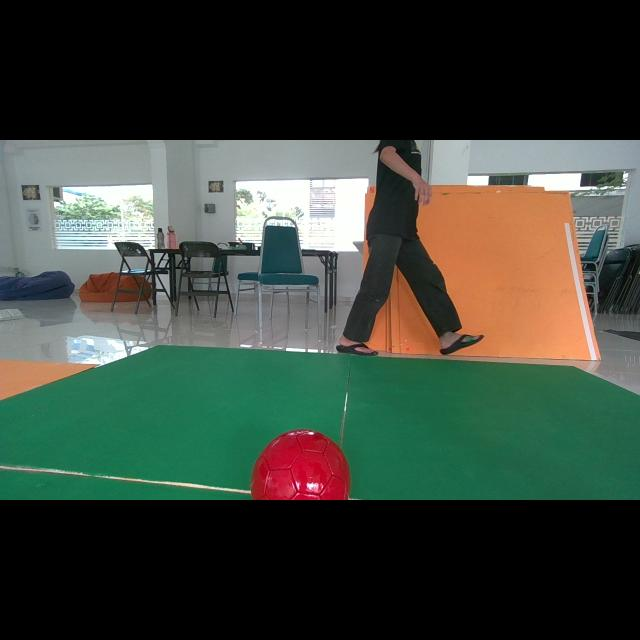R: (251, 429, 351, 500)
